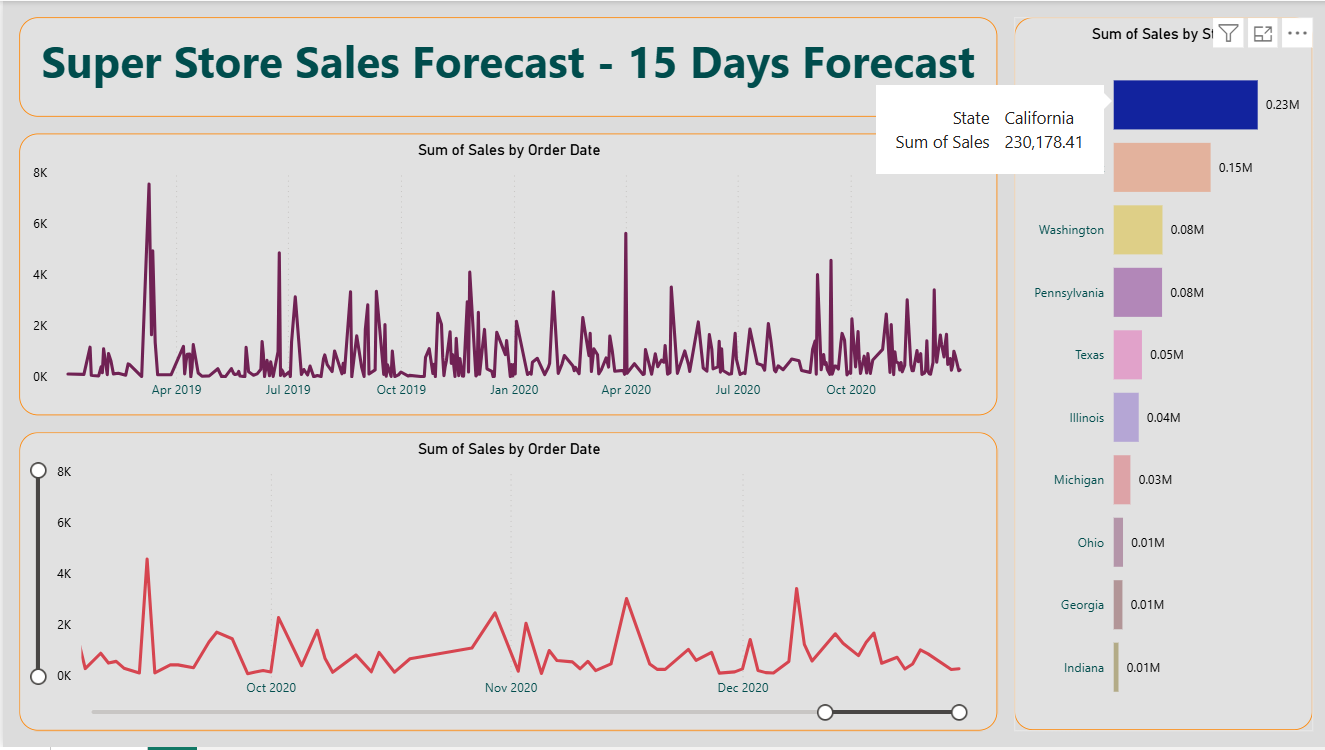

What the dashboard file says about the page in this screenshot:
{"tool":"powerbi","page":{"name":"Page 2","canvas":[1280,720],"ordinal":1},"visuals":[{"type":"lineChart","fields":{"Y":["Sum(SuperStore_Sales_Dataset.Sales)"],"Category":["SuperStore_Sales_Dataset.Order Date"]},"box":[16,128,944,272],"z":0},{"type":"lineChart","fields":{"Y":["Sum(SuperStore_Sales_Dataset.Sales)"],"Category":["SuperStore_Sales_Dataset.Order Date"]},"box":[16,416,944,288],"z":1000},{"type":"barChart","fields":{"Category":["SuperStore_Sales_Dataset.State"],"Y":["Sum(SuperStore_Sales_Dataset.Sales)"]},"box":[976,16,288,688],"z":2000},{"type":"textbox","box":[16,16,944,96],"z":3000}]}

Visuals, with their boxes in screenshot pixels (x1, y1, x2, y2), scaled from the page's 1280x720 canvas onto the 1325x750 screenshot:
lineChart - Sum(SuperStore_Sales_Dataset.Sales) x SuperStore_Sales_Dataset.Order Date: {"left": 17, "top": 133, "right": 994, "bottom": 417}
lineChart - Sum(SuperStore_Sales_Dataset.Sales) x SuperStore_Sales_Dataset.Order Date: {"left": 17, "top": 433, "right": 994, "bottom": 733}
barChart - SuperStore_Sales_Dataset.State x Sum(SuperStore_Sales_Dataset.Sales): {"left": 1010, "top": 17, "right": 1308, "bottom": 733}
textbox: {"left": 17, "top": 17, "right": 994, "bottom": 117}
